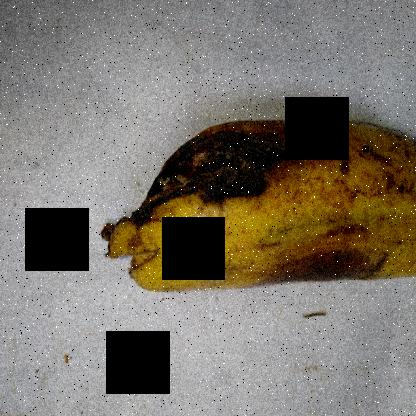ripe: (299, 105, 415, 293)
rotten: (98, 121, 294, 248), (250, 227, 384, 312)
